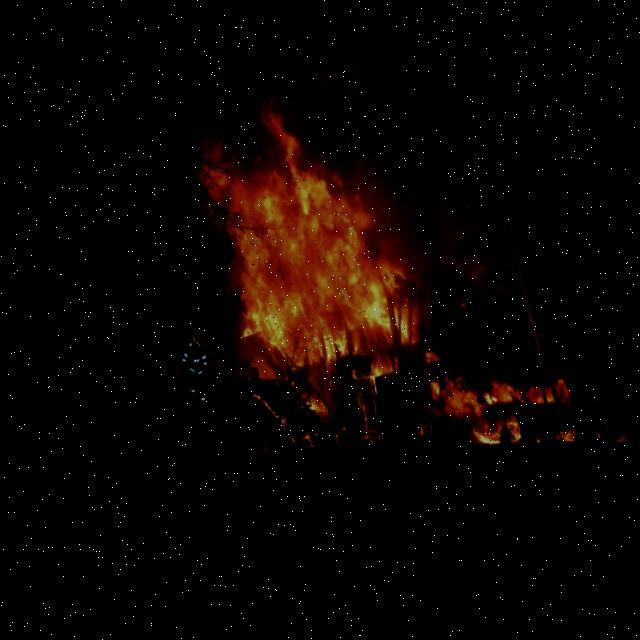Fire: (200, 102, 572, 444)
